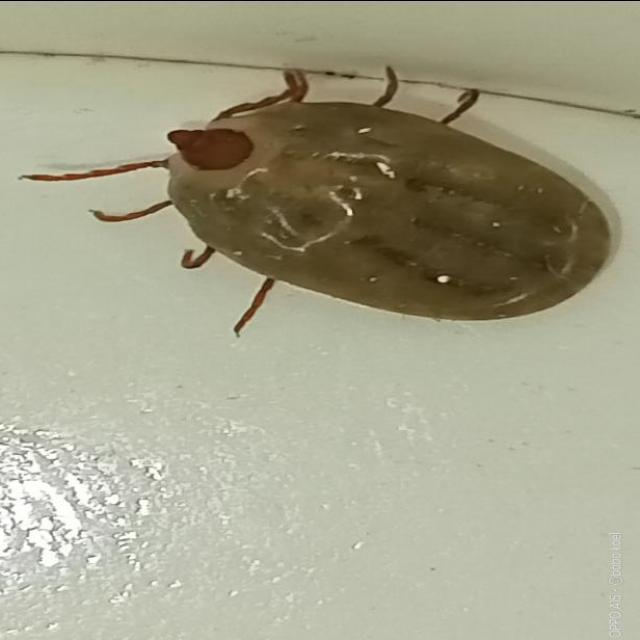Rhipicephalus Sanguineus-F-Fed: (18, 64, 617, 331)
